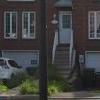stairs: (53, 38, 75, 76)
